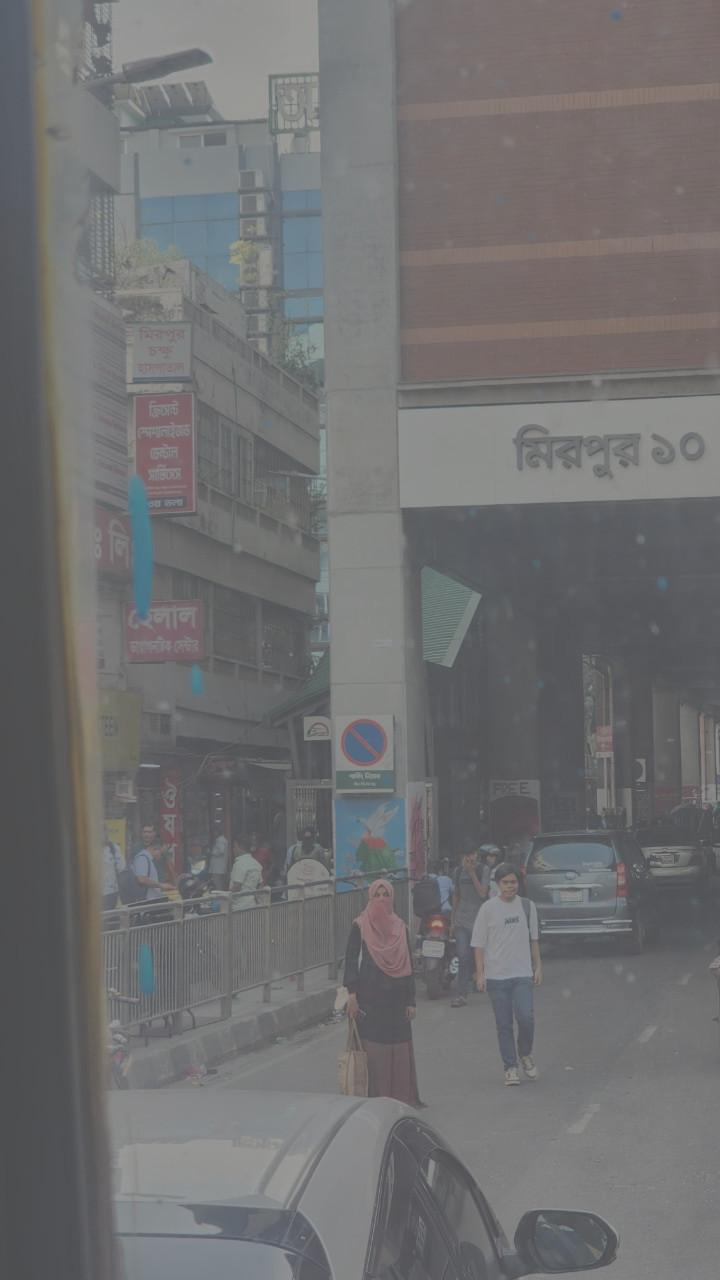No Parking: (336, 712, 395, 778)
